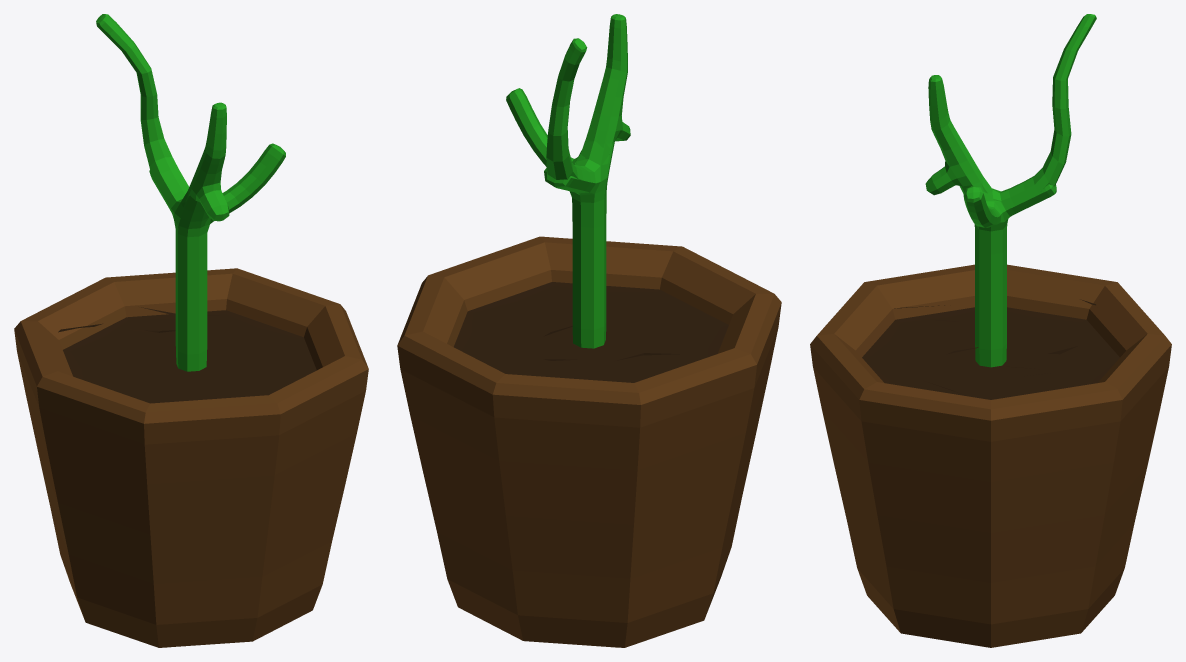
The model's file is pot.fbx.
3 renders of one model, left to right at view 1: azimuth 30°, elevation 25°; view 2: azimuth 150°, elevation 25°; view 3: azimuth 270°, elevation 25°, orthographic. The views are drawn at different scales.
Parts seen in each view (by area): view 1: Pot, Dirt, med2 plant, Object.001, med plant, small plant; view 2: Pot, Dirt, med2 plant, small plant, Object.001, med plant; view 3: Pot, Dirt, med2 plant, Object.001, small plant, med plant.
Part boxes in pixels (<box>): Pot: <box>14,268,368,647</box>; Dirt: <box>58,307,316,403</box>; med2 plant: <box>149,102,285,371</box>; Object.001: <box>96,14,183,188</box>; med plant: <box>152,178,209,260</box>; small plant: <box>175,252,207,371</box>; Pot: <box>397,236,781,647</box>; Dirt: <box>454,282,728,382</box>; med2 plant: <box>506,14,630,348</box>; small plant: <box>572,220,606,348</box>; Object.001: <box>546,38,587,180</box>; med plant: <box>561,125,614,223</box>; Pot: <box>810,264,1171,647</box>; Dirt: <box>862,299,1119,399</box>; med2 plant: <box>925,75,1056,366</box>; Object.001: <box>1023,14,1096,199</box>; small plant: <box>975,248,1006,367</box>; med plant: <box>959,166,1046,252</box>.
Bounding box in the file's own units: 35.54 × 62.82 × 35.54.
